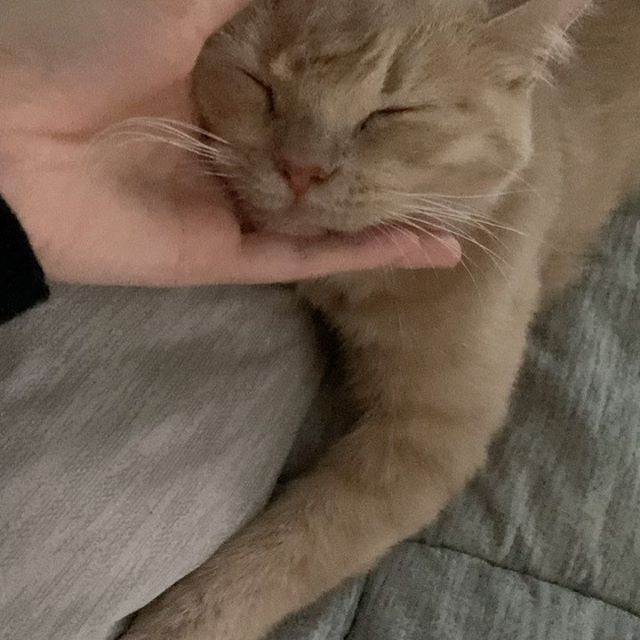cat: (192, 1, 593, 247)
